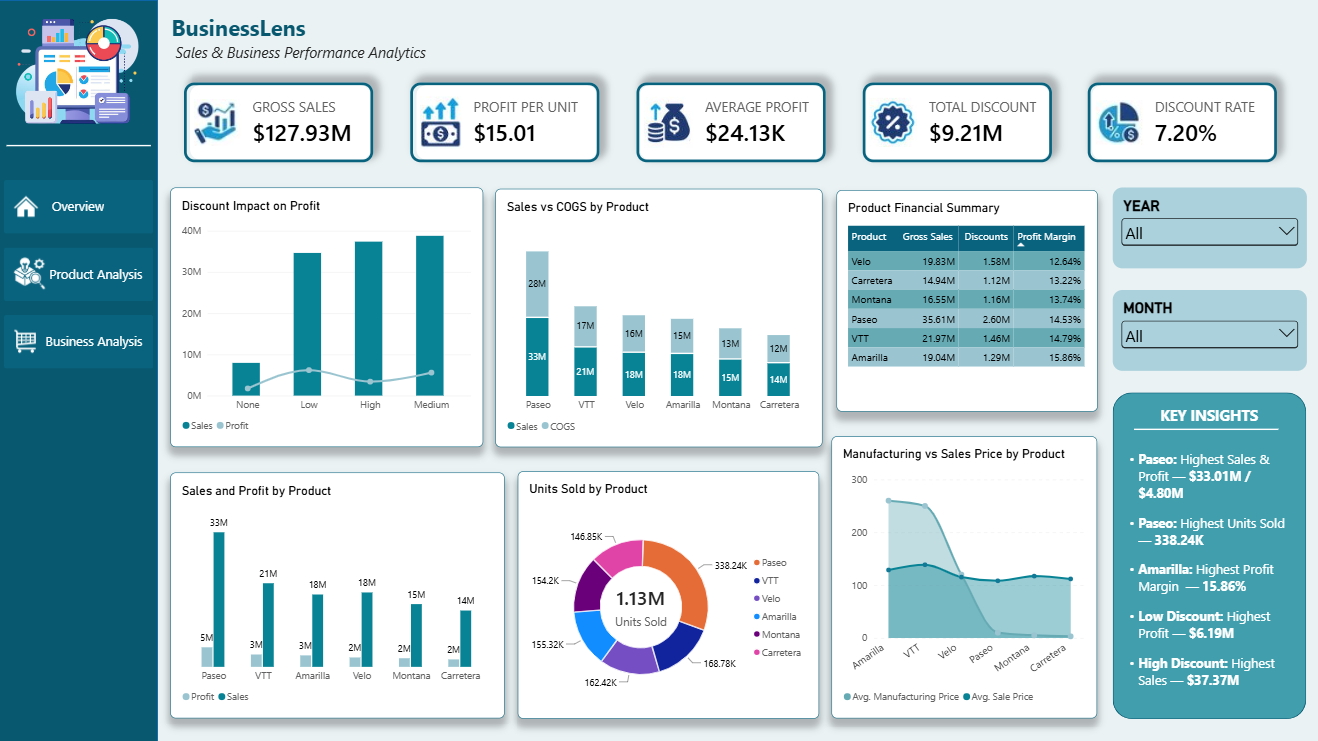

This screenshot's page, from the dashboard's own definition file:
{"tool":"powerbi","page":{"name":"Product Analysis","canvas":[1920,1080],"ordinal":1},"visuals":[{"type":"shape","box":[0,0,231,1080],"z":0},{"type":"image","box":[21.2,18.8,185,167.5],"z":1000},{"type":"cardVisual","fields":{"Data":["cleaned_dataset.Profit per Unit"]},"box":[597.8,120,275,116],"z":2000},{"type":"cardVisual","fields":{"Data":["cleaned_dataset.Discount Rate"]},"box":[1584.4,120,275,116],"z":3000},{"type":"cardVisual","fields":{"Data":["Avg(cleaned_dataset.Profit)"]},"box":[926.7,120,275,116],"z":4000},{"type":"actionButton","box":[6.7,262.5,217,78],"z":5000},{"type":"actionButton","box":[6.8,360.5,217,78],"z":6000},{"type":"actionButton","box":[6.8,457.9,217,78],"z":7000},{"type":"slicer","fields":{"Values":["cleaned_dataset.Month Name"]},"box":[1620,422.2,282.2,117.8],"z":8000},{"type":"clusteredColumnChart","title":"Sales and Profit by Product","fields":{"Category":["cleaned_dataset.Product"],"Y":["Sum(cleaned_dataset.Profit)","Sum(cleaned_dataset.Sales)"]},"box":[248.8,687.5,486.2,357.5],"z":9000},{"type":"lineChart","title":"Manufacturing vs Sales Price by Product","fields":{"Category":["cleaned_dataset.Product"],"Y":["Avg(cleaned_dataset.Manufacturing Price)","Avg(cleaned_dataset.Sale Price)"]},"box":[1211.2,633.8,386.2,410],"z":10000},{"type":"slicer","fields":{"Values":["cleaned_dataset.Year"]},"box":[1619.1,272.7,282.2,117.8],"z":11000},{"type":"shape","box":[1620,570,281.2,475],"z":12000},{"type":"donutChart","title":"Units Sold by Product","fields":{"Category":["cleaned_dataset.Product"],"Y":["Sum(cleaned_dataset.Units Sold)"]},"box":[753.8,686.2,438.8,360],"z":13000},{"type":"textbox","box":[1628.3,588.3,262,440],"z":14000},{"type":"shape","box":[1650,598.9,210,52.6],"z":15000},{"type":"columnChart","title":"Sales vs COGS by Product","fields":{"Category":["cleaned_dataset.Product"],"Y":["Sum(cleaned_dataset.Sales)","Sum(cleaned_dataset.COGS)"]},"box":[722.5,275,476.2,376.2],"z":16000},{"type":"pivotTable","title":"Product Financial Summary","fields":{"Rows":["cleaned_dataset.Product"],"Values":["Sum(cleaned_dataset.Gross Sales)","Sum(cleaned_dataset.Discounts)","cleaned_dataset.Profit Margin"]},"box":[1218.2,275.5,380,322.7],"z":17000},{"type":"lineStackedColumnComboChart","title":"Discount Impact on Profit","fields":{"Category":["cleaned_dataset.Discount Band"],"Y":["Sum(cleaned_dataset.Sales)"],"Y2":["Sum(cleaned_dataset.Profit)"]},"box":[248.8,272.5,455,377.5],"z":18000},{"type":"cardVisual","fields":{"Data":["Sum(cleaned_dataset.Discounts)"]},"box":[1255.6,120,275,116],"z":19000},{"type":"cardVisual","fields":{"Data":["Sum(cleaned_dataset.Gross Sales)"]},"box":[269.1,119.1,275,116],"z":20000},{"type":"shape","box":[10,186.3,210,52.6],"z":21000},{"type":"textbox","box":[250,18,400,84],"z":22000}]}

Visuals, with their boxes on the page's 1920x1080 design canvas (x1, y1, x2, y2). These are canvas units, not pixel positions in the 1318x741 screenshot, which may show the page scaled, cropped or inside an application window:
shape: [x1=0, y1=0, x2=231, y2=1080]
image: [x1=21, y1=19, x2=206, y2=186]
cardVisual - cleaned_dataset.Profit per Unit: [x1=598, y1=120, x2=873, y2=236]
cardVisual - cleaned_dataset.Discount Rate: [x1=1584, y1=120, x2=1859, y2=236]
cardVisual - Avg(cleaned_dataset.Profit): [x1=927, y1=120, x2=1202, y2=236]
actionButton: [x1=7, y1=262, x2=224, y2=340]
actionButton: [x1=7, y1=360, x2=224, y2=438]
actionButton: [x1=7, y1=458, x2=224, y2=536]
slicer - cleaned_dataset.Month Name: [x1=1620, y1=422, x2=1902, y2=540]
"Sales and Profit by Product" clusteredColumnChart: [x1=249, y1=688, x2=735, y2=1045]
"Manufacturing vs Sales Price by Product" lineChart: [x1=1211, y1=634, x2=1597, y2=1044]
slicer - cleaned_dataset.Year: [x1=1619, y1=273, x2=1901, y2=390]
shape: [x1=1620, y1=570, x2=1901, y2=1045]
"Units Sold by Product" donutChart: [x1=754, y1=686, x2=1193, y2=1046]
textbox: [x1=1628, y1=588, x2=1890, y2=1028]
shape: [x1=1650, y1=599, x2=1860, y2=652]
"Sales vs COGS by Product" columnChart: [x1=722, y1=275, x2=1199, y2=651]
"Product Financial Summary" pivotTable: [x1=1218, y1=276, x2=1598, y2=598]
"Discount Impact on Profit" lineStackedColumnComboChart: [x1=249, y1=272, x2=704, y2=650]
cardVisual - Sum(cleaned_dataset.Discounts): [x1=1256, y1=120, x2=1531, y2=236]
cardVisual - Sum(cleaned_dataset.Gross Sales): [x1=269, y1=119, x2=544, y2=235]
shape: [x1=10, y1=186, x2=220, y2=239]
textbox: [x1=250, y1=18, x2=650, y2=102]
